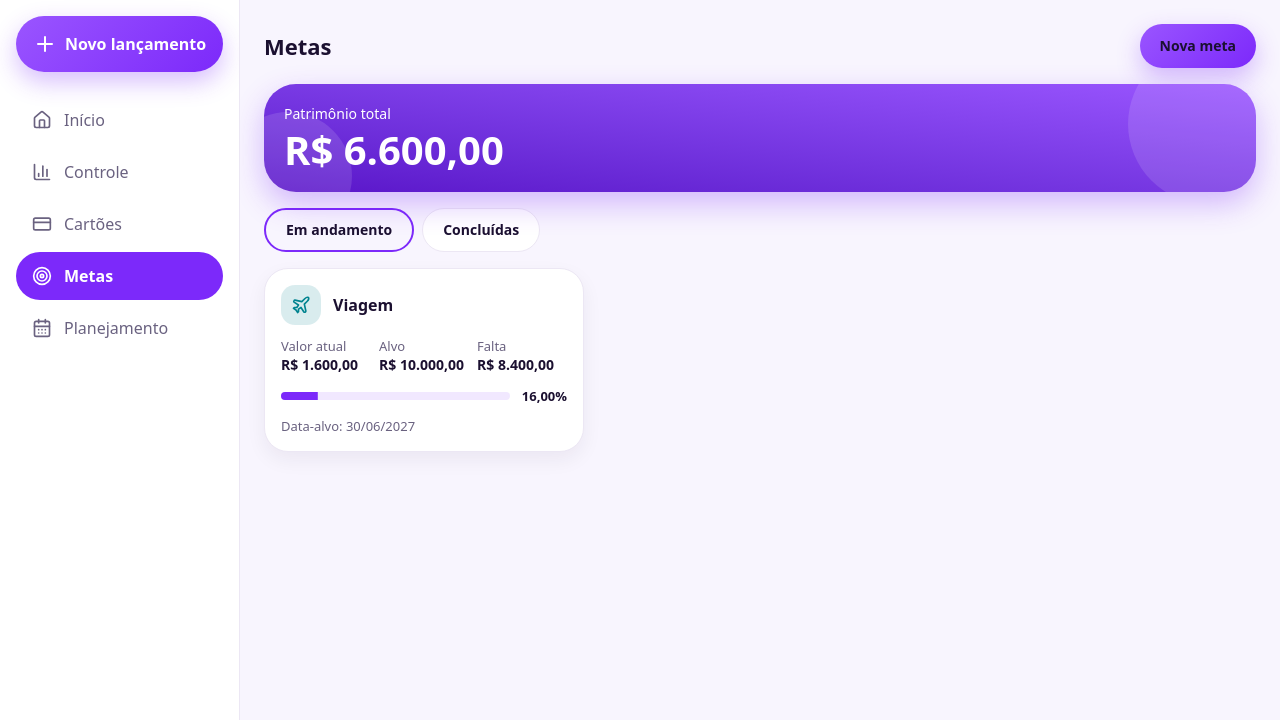
Test case: Metas: lista e patrimônio (CA-6.09, CA-6.10) › aba sem metas mostra a frase da aba
Expected: the text "Viagem" is shown, [333,294,393,316]
Click the button "Concluídas" at (481, 230), box [422,208,540,252]
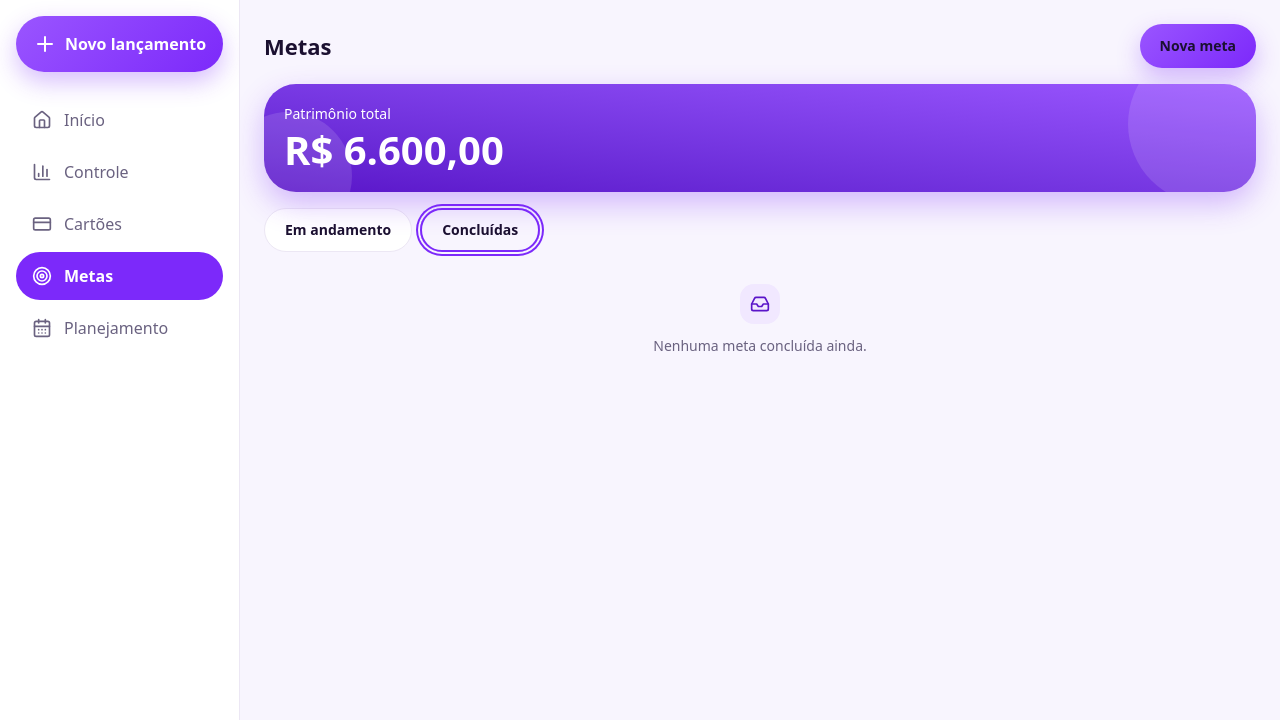
Expected: the text "Nenhuma meta concluída ainda." is shown, [653,336,867,356]
